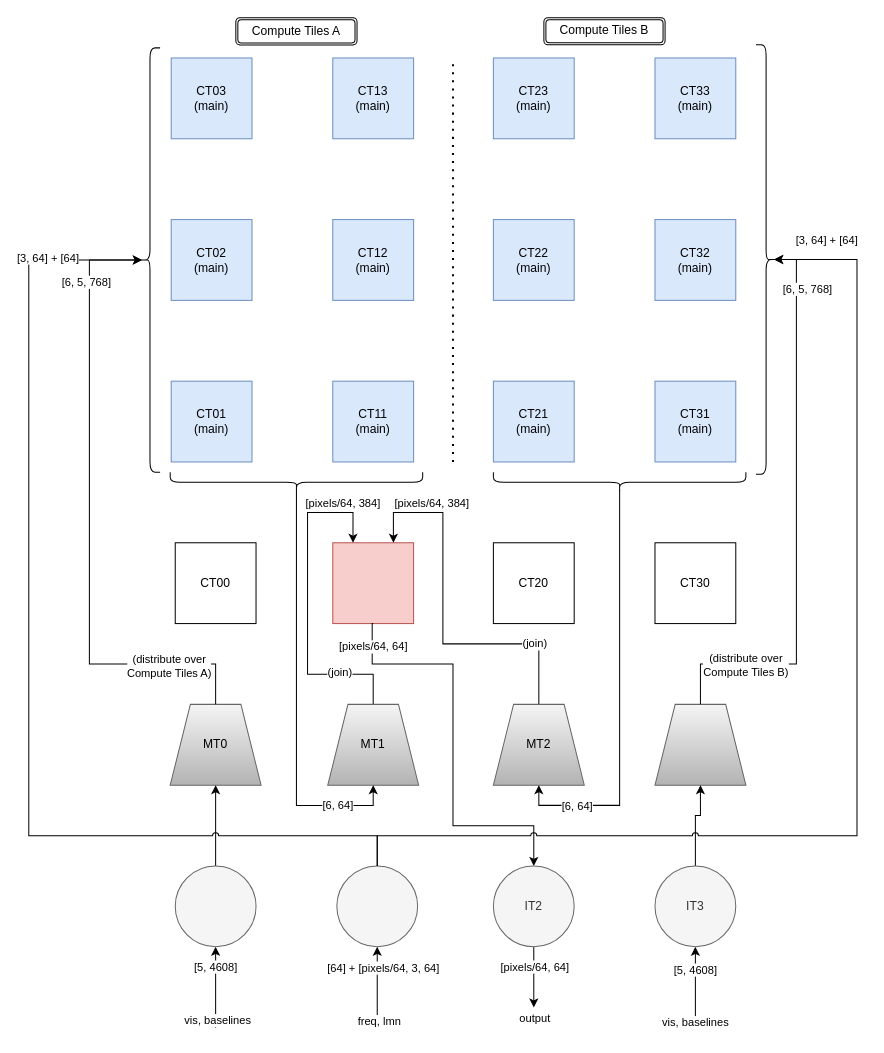
Image size: 884x1053. Some labels were removed from this diagram. Here are the shapes that lost their labels. From the top down, the centre of each, then its label:
the point at 373,583: CT10 (mean)
the point at 700,744: MT3
the point at 215,906: IT0
the point at 377,906: IT1
